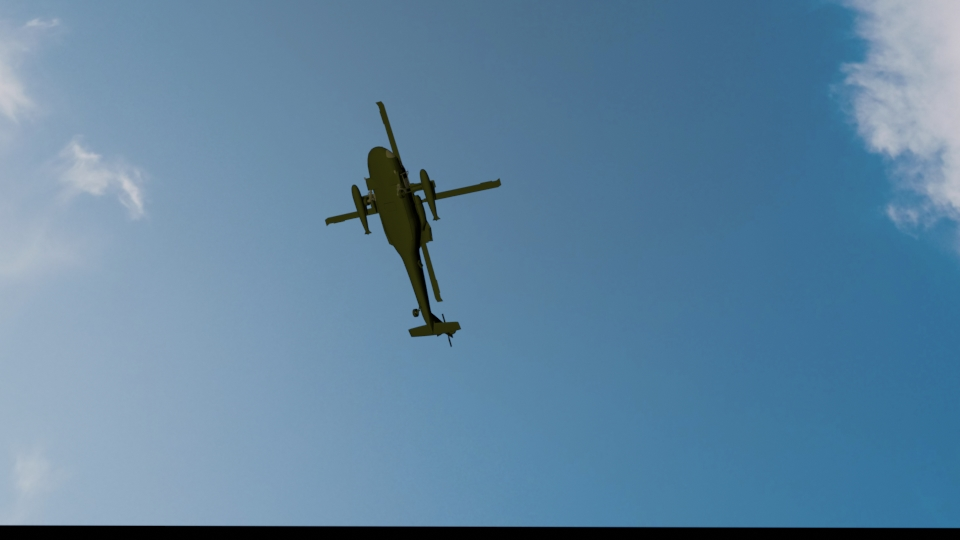heli: (320, 99, 503, 345)
